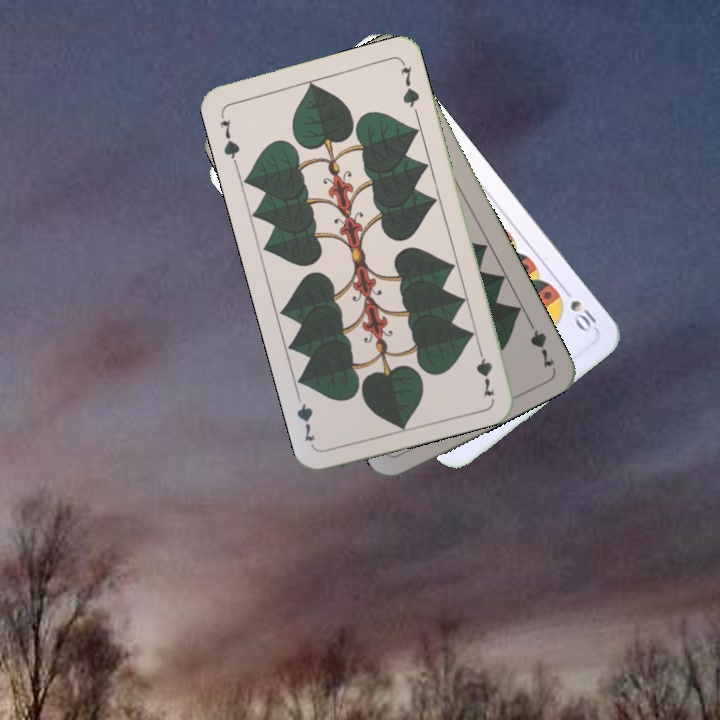G7: (523, 314, 557, 371), (472, 340, 498, 400), (216, 110, 242, 168)
S10: (558, 282, 603, 335)
